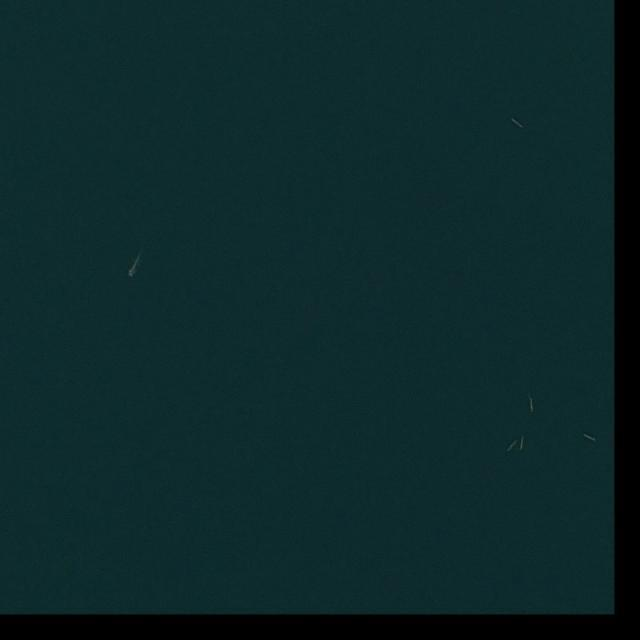ship: (127, 262, 138, 278), (511, 119, 526, 130), (507, 440, 518, 453), (582, 434, 598, 442), (518, 435, 526, 451), (530, 395, 535, 412)
